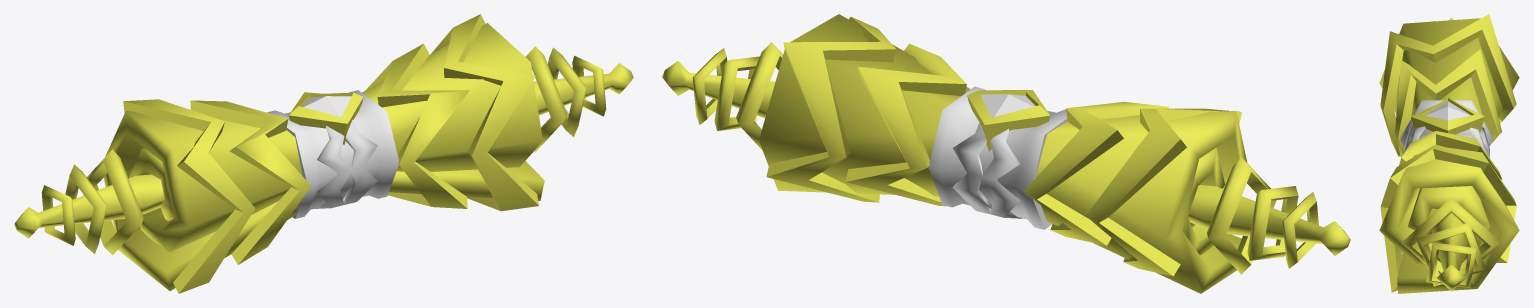
File: ScrollLightning-V1.fbx
3 views of the same model, side by side, from view 1: azimuth 30°, elevation 25°; view 2: azimuth 150°, elevation 25°; view 3: azimuth 270°, elevation 25° (orthographic). The views are drawn at different scales.
Visible parts, largest first — view 1: LightningScroll, LightningWrap, LightningRibbon, LightningCrystal; view 2: LightningScroll, LightningWrap, LightningRibbon, LightningCrystal; view 3: LightningScroll, LightningWrap, LightningRibbon, LightningCrystal.
Boxes of the visible parts, x1,y1,x2,y2 form: LightningScroll: (14,14,633,293); LightningWrap: (267,90,398,218); LightningRibbon: (314,119,377,208); LightningCrystal: (302,96,351,116); LightningScroll: (662,14,1350,293); LightningWrap: (928,86,1067,229); LightningRibbon: (952,122,1022,218); LightningCrystal: (980,94,1035,117); LightningScroll: (1379,14,1519,293); LightningWrap: (1400,100,1492,146); LightningRibbon: (1403,125,1489,157); LightningCrystal: (1425,101,1470,120).
Size of the model in its own units: 442 by 104 by 102.
